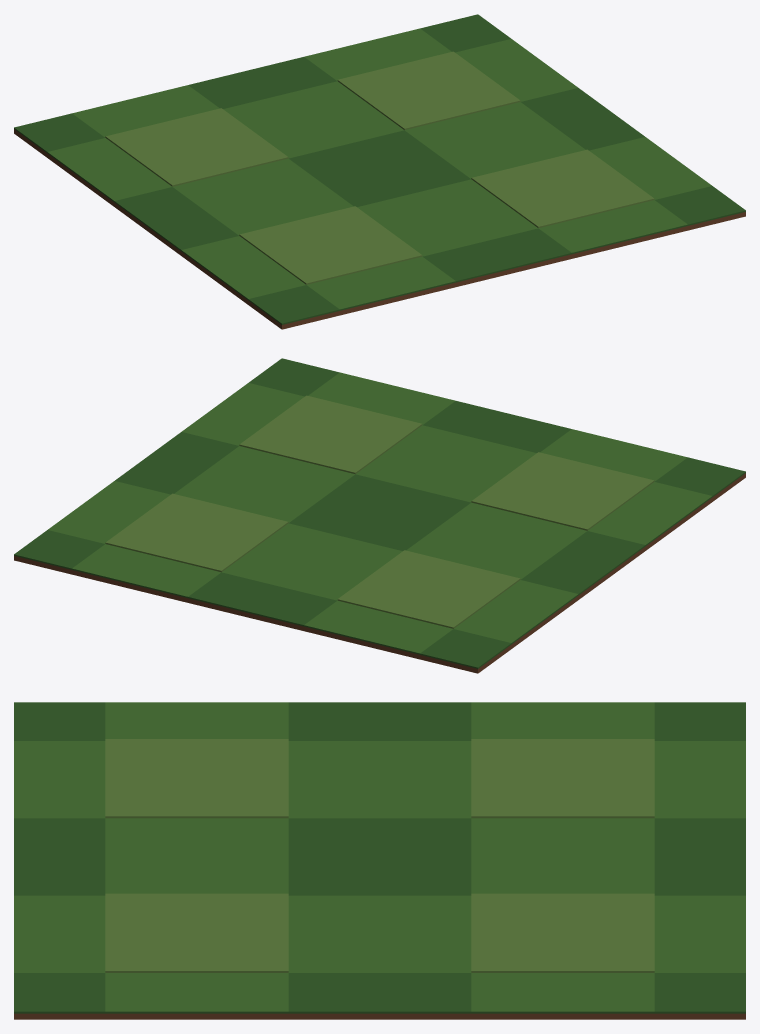
File: turf-pitch-tile-aca1ef.glb
3 views of the same model, one above another, from view 1: azimuth 30°, elevation 25°; view 2: azimuth 150°, elevation 25°; view 3: azimuth 270°, elevation 25° (orthographic). The views are drawn at different scales.
Parts seen in each view (by area): view 1: turf; view 2: turf; view 3: turf.
Part boxes in pixels (left/top/right/bottom): turf: left=14, top=14, right=745, bottom=329; turf: left=14, top=358, right=745, bottom=673; turf: left=14, top=702, right=745, bottom=1019.
Bounding box in the file's own units: 4 × 0.062 × 4.
